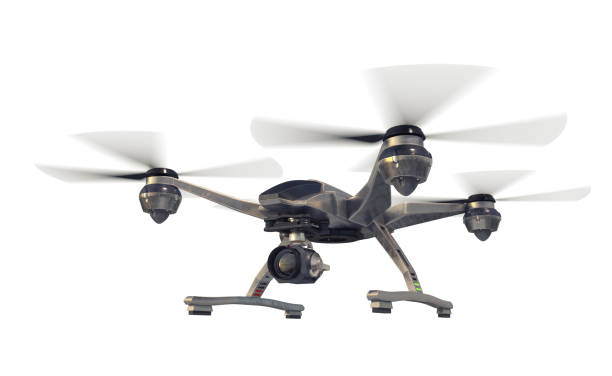Drone: (33, 56, 595, 327)
